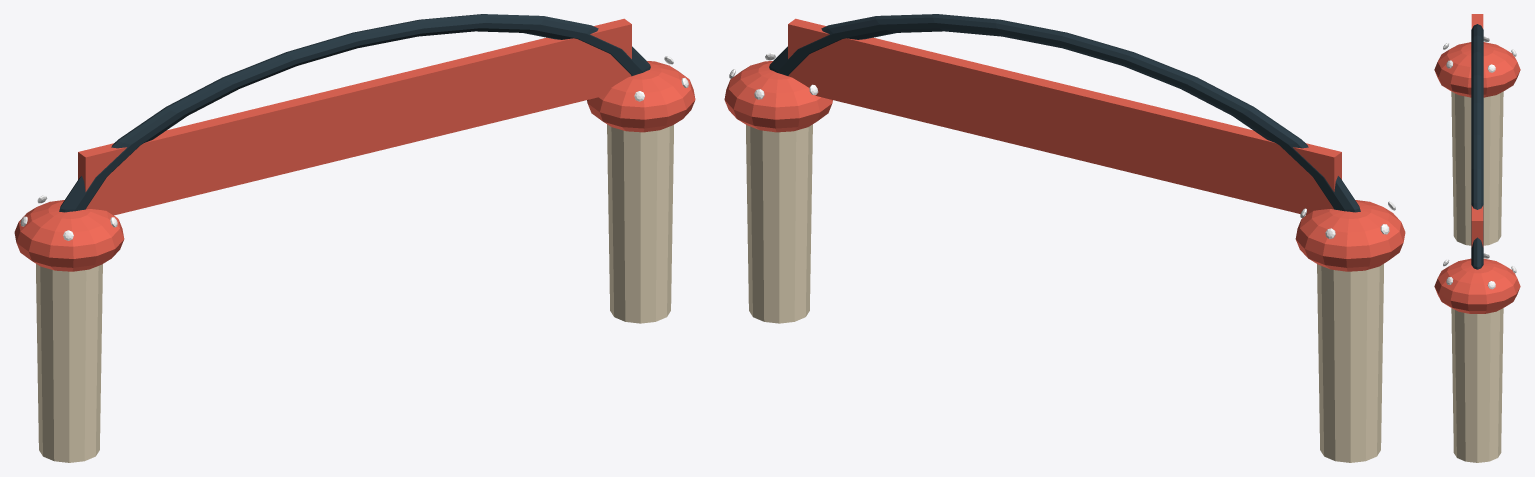
The model's file is gate_r21_backup.glb.
The picture shows the model from 3 angles, left to right: view 1: azimuth 30°, elevation 25°; view 2: azimuth 150°, elevation 25°; view 3: azimuth 270°, elevation 25°; orthographic projection. The views are drawn at different scales.
Parts seen in each view (by area): view 1: banner, pillar1, pillar-1, arch, cap-1, cap1; view 2: banner, pillar1, pillar-1, arch, cap-1, cap1; view 3: pillar1, pillar-1, cap1, cap-1, arch, banner.
Part boxes in pixels (x1=…): banner: x1=78, y1=18, x2=631, y2=215; pillar1: x1=607, y1=124, x2=673, y2=323; pillar-1: x1=36, y1=264, x2=102, y2=462; arch: x1=59, y1=14, x2=650, y2=212; cap-1: x1=14, y1=200, x2=124, y2=271; cap1: x1=587, y1=61, x2=695, y2=132; banner: x1=788, y1=18, x2=1341, y2=215; pillar1: x1=746, y1=124, x2=812, y2=323; pillar-1: x1=1317, y1=264, x2=1383, y2=462; arch: x1=769, y1=14, x2=1360, y2=212; cap-1: x1=1295, y1=200, x2=1405, y2=271; cap1: x1=724, y1=61, x2=832, y2=132; pillar1: x1=1451, y1=308, x2=1503, y2=462; pillar-1: x1=1451, y1=91, x2=1503, y2=245; cap1: x1=1434, y1=258, x2=1520, y2=313; cap-1: x1=1434, y1=42, x2=1520, y2=97; arch: x1=1471, y1=24, x2=1483, y2=269; banner: x1=1471, y1=14, x2=1483, y2=247.
Bounding box in the file's own units: 21.42 × 10.69 × 3.1.
